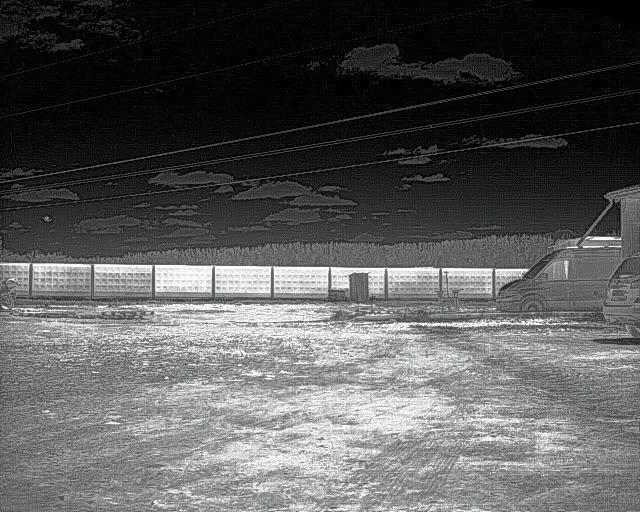ufo-thermal: (40, 213, 55, 224)
